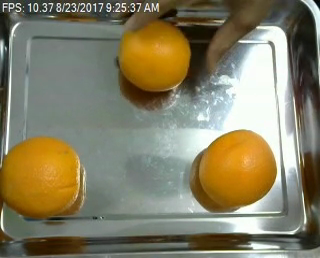Orange: (1, 136, 81, 218), (198, 129, 279, 207)
